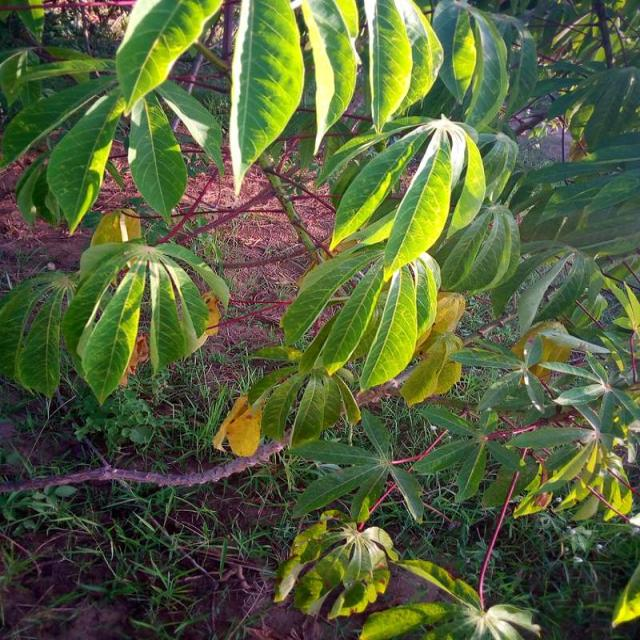cassava leaf: (228, 0, 305, 196), (382, 130, 452, 280)
